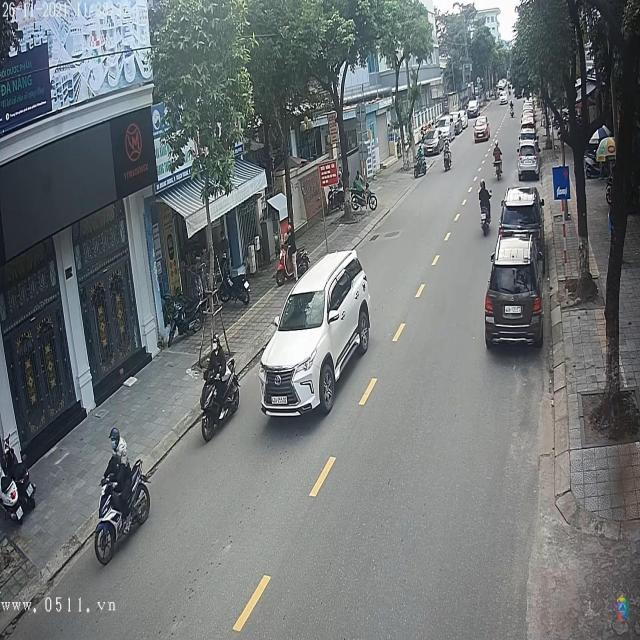car: (257, 250, 371, 417), (486, 239, 543, 349), (499, 187, 545, 241), (517, 146, 540, 182), (472, 116, 491, 143), (516, 130, 538, 149), (468, 99, 480, 117)
motorcycle: (91, 455, 150, 568), (198, 354, 243, 444), (480, 203, 492, 236), (442, 148, 454, 174)
